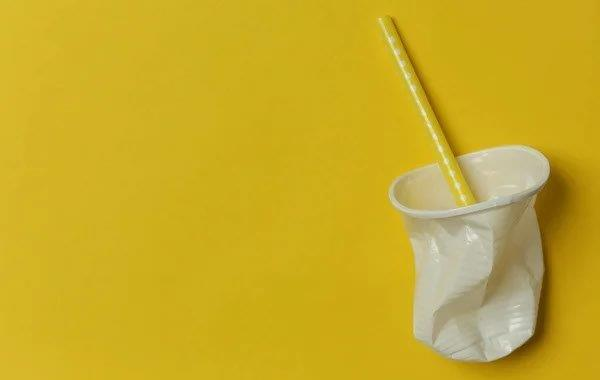sedotan: (376, 15, 483, 207)
